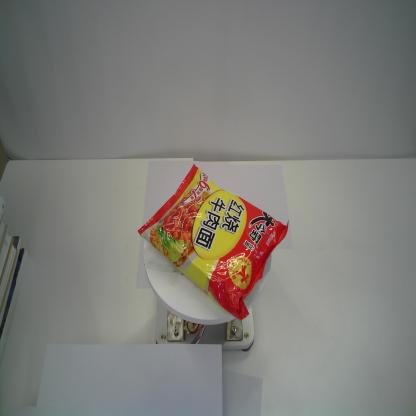Instant Noodles: (137, 162, 290, 321)
